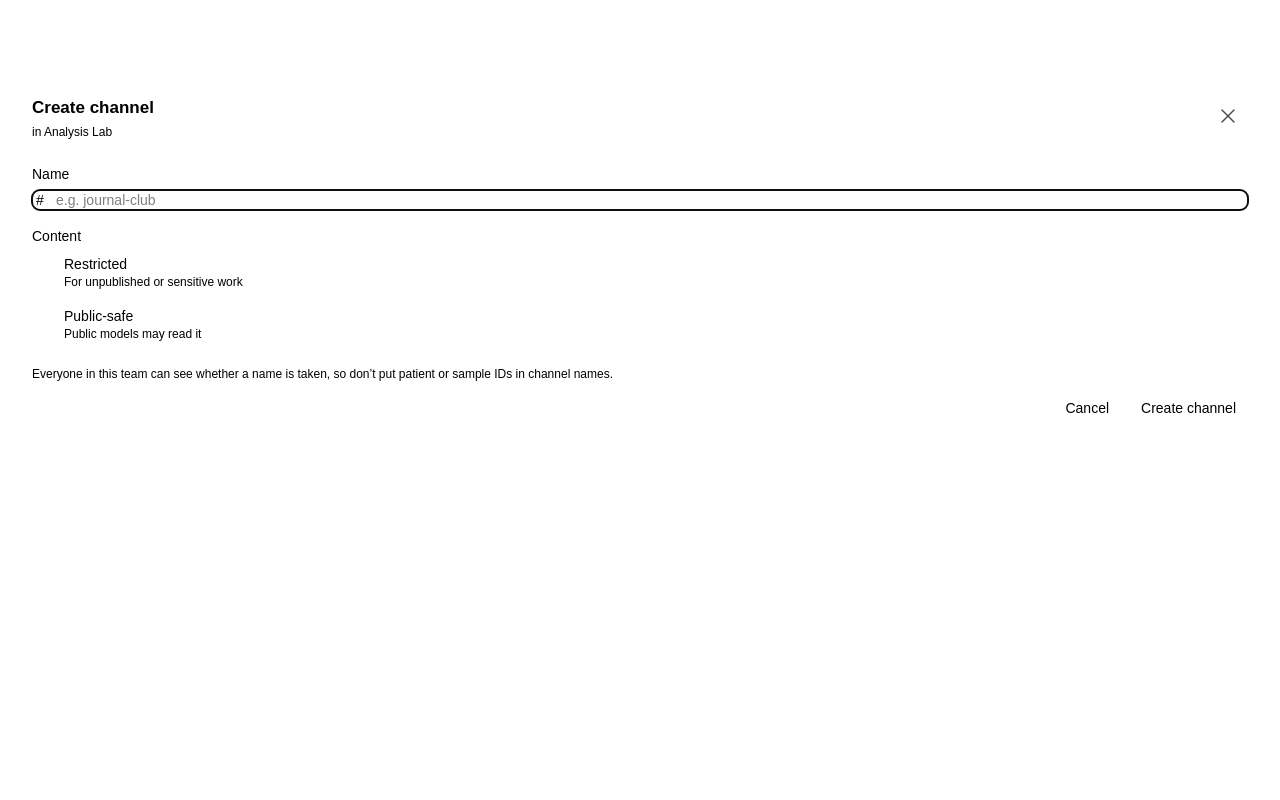
it: CreateChannelDialog › refuses a name the broker would refuse before sending it
Type "results/final" into the field labelled "Name" at (640, 200), box [32,190,1248,210]
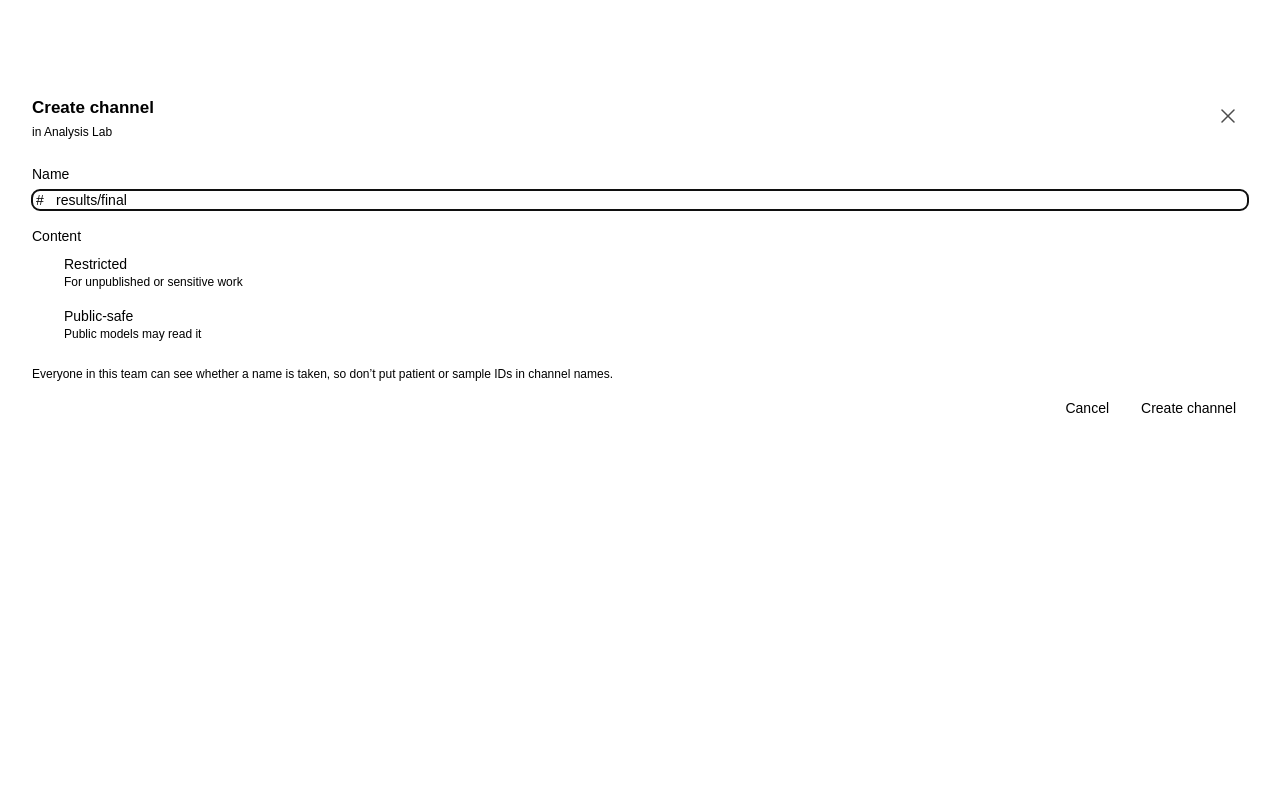
Click the button "Create channel" at (1188, 408), box [1129,398,1248,418]
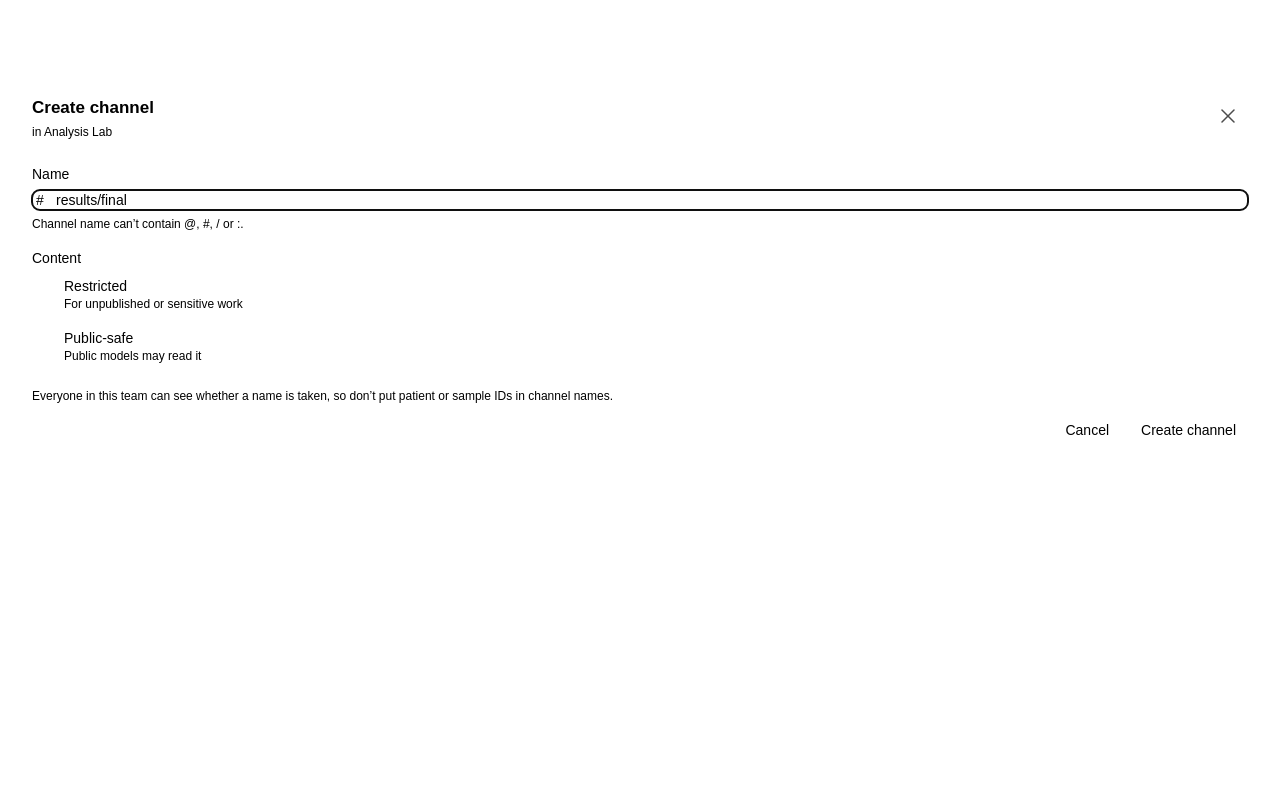
Expected: the text "Channel name can’t contain @, #, / or :." is shown, [32,217,244,231]
